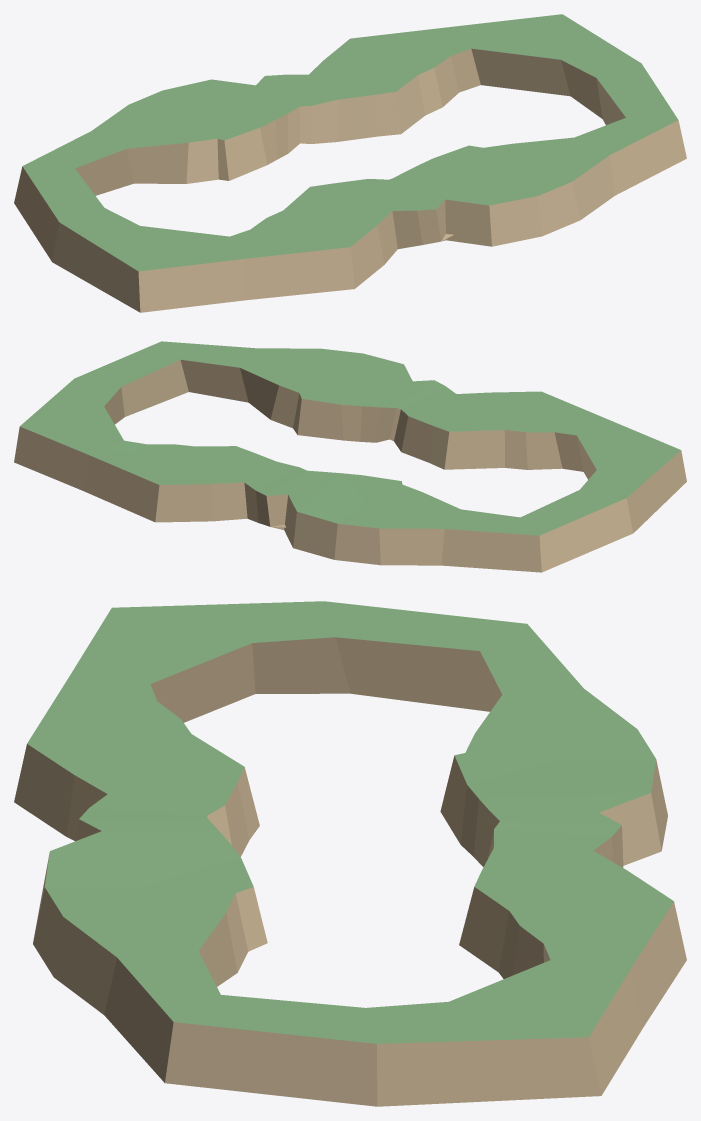
The model's file is LandEnclave.001.fbx.
3 renders of one model, top to bottom at view 1: azimuth 30°, elevation 25°; view 2: azimuth 150°, elevation 25°; view 3: azimuth 270°, elevation 25°, orthographic. The views are drawn at different scales.
Parts seen in each view (by area): view 1: LandEnclave.001; view 2: LandEnclave.001; view 3: LandEnclave.001.
Boxes of the visible parts, x1,y1,x2,y2 form: LandEnclave.001: (14, 14, 686, 312); LandEnclave.001: (14, 341, 686, 572); LandEnclave.001: (14, 601, 686, 1106).
Size of the model in its own units: 6623 by 404 by 4152.
